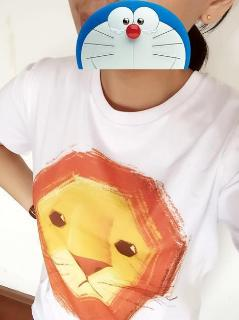short sleeve top: (0, 52, 239, 319)
